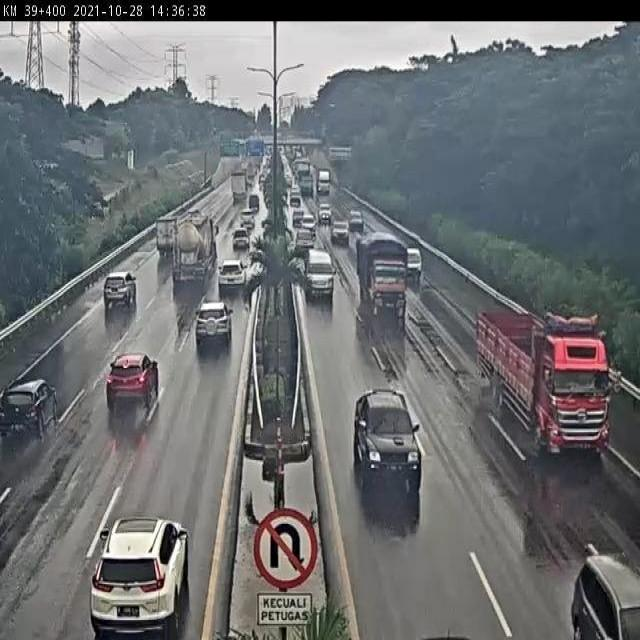truck-m-: (471, 309, 609, 451), (358, 234, 408, 314)
truck-xl-: (169, 212, 217, 289)
